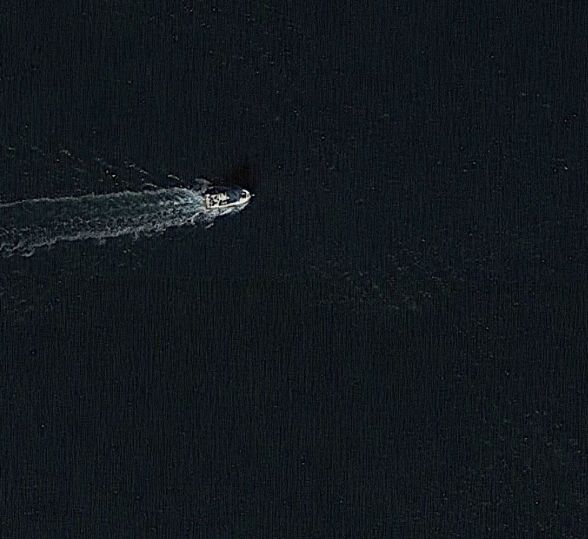boat: (200, 181, 257, 215)
